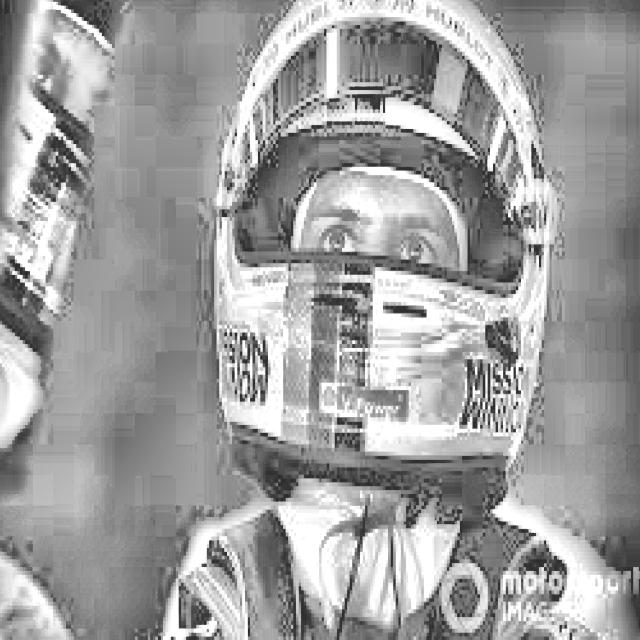Helmet: (174, 0, 578, 523)
